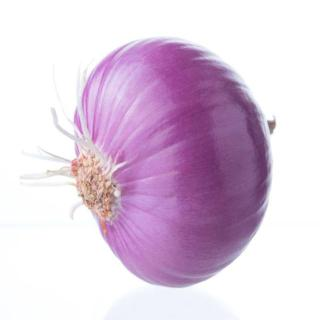Bawang Merah: (67, 33, 282, 292)
